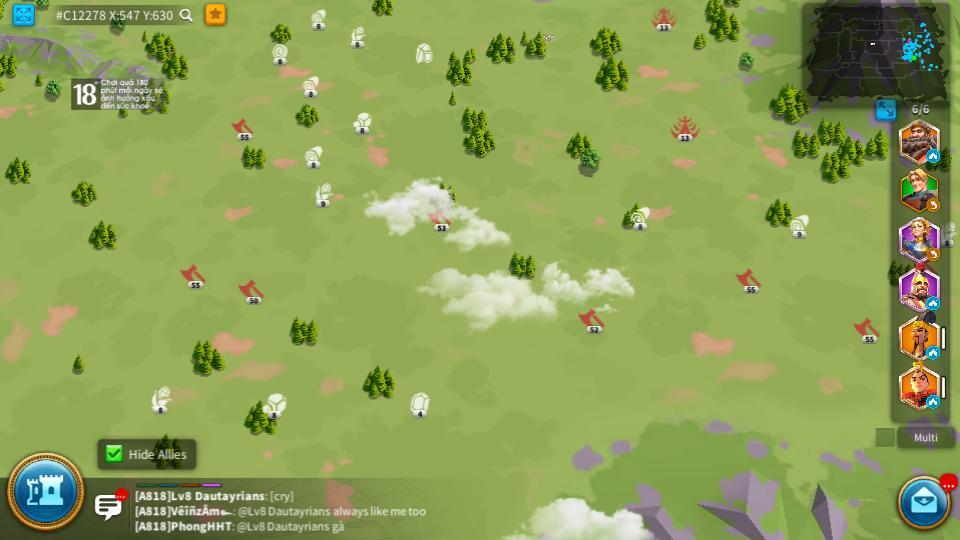gem-z-out: (408, 393, 431, 416)
march_idle: (926, 396, 940, 407), (927, 150, 940, 161), (927, 347, 940, 357), (925, 297, 938, 307)
march_returning: (927, 201, 941, 212), (927, 248, 941, 259)
